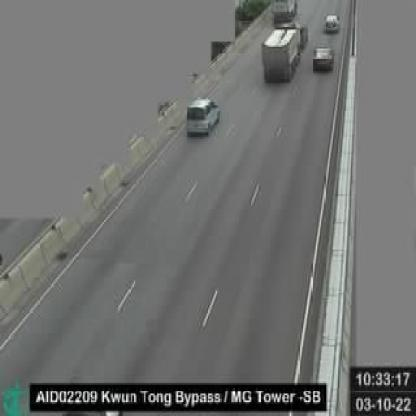Car: (187, 95, 220, 137), (310, 45, 332, 71), (322, 14, 340, 33)
Truck: (261, 22, 307, 86)
